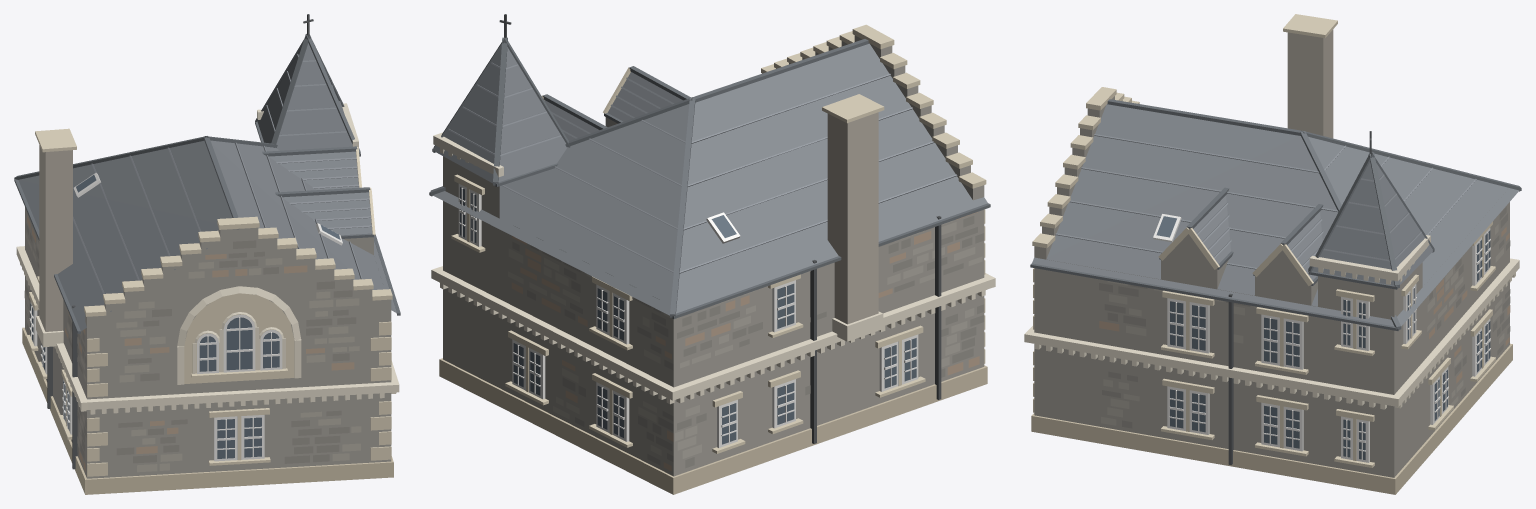
3 views of the same model, side by side, from view 1: azimuth 30°, elevation 25°; view 2: azimuth 150°, elevation 25°; view 3: azimuth 270°, elevation 25° (orthographic). The views are drawn at different scales.
Visible parts, largest first — view 1: rubble, slate, ss, ss_lt, ss_dk, slate_dk, chim_stone, rubble_dk, rubble_lt, frame, slate_lt, rubble_rust (+6 smaller); view 2: slate, rubble, ss_lt, ss_dk, ss, chim_stone, slate_dk, frame, rubble_dk, rubble_lt, slate_lt, rubble_rust (+2 smaller); view 3: slate, rubble, ss, ss_lt, frame, ss_dk, slate_dk, chim_stone, slate_lt, rubble_lt, rubble_dk, pipe (+1 smaller).
Part boxes in pixels (box(x1,y1,x2,y2)): rubble: box(25, 208, 391, 478); slate: box(18, 43, 396, 331); ss: box(26, 128, 392, 476); ss_lt: box(16, 103, 399, 414); ss_dk: box(22, 327, 393, 494); slate_dk: box(14, 34, 400, 333); chim_stone: box(39, 145, 72, 331); rubble_dk: box(25, 207, 356, 463); rubble_lt: box(24, 233, 361, 472); frame: box(29, 172, 342, 461); slate_lt: box(73, 54, 371, 311); rubble_rust: box(27, 215, 354, 471); slate: box(433, 43, 987, 315); rubble: box(443, 35, 984, 476); ss_lt: box(431, 132, 995, 404); ss_dk: box(439, 358, 987, 494); ss: box(451, 24, 986, 453); chim_stone: box(827, 112, 878, 324); slate_dk: box(429, 37, 990, 318); frame: box(458, 184, 918, 447); rubble_dk: box(512, 216, 984, 468); rubble_lt: box(508, 220, 982, 458); slate_lt: box(448, 62, 957, 273); rubble_rust: box(511, 212, 979, 471); slate: box(1032, 104, 1519, 326); rubble: box(1034, 96, 1509, 477); ss: box(1032, 14, 1495, 467); ss_lt: box(1024, 235, 1519, 409); frame: box(1153, 214, 1490, 462); ss_dk: box(1031, 343, 1512, 494); slate_dk: box(1030, 99, 1521, 330); chim_stone: box(1287, 29, 1333, 138); slate_lt: box(1055, 134, 1476, 274); rubble_lt: box(1101, 224, 1504, 425); rubble_dk: box(1099, 206, 1510, 428); pipe: box(1228, 131, 1371, 464).
Bounding box in the file's own units: 16.06 × 12.9 × 17.12.
